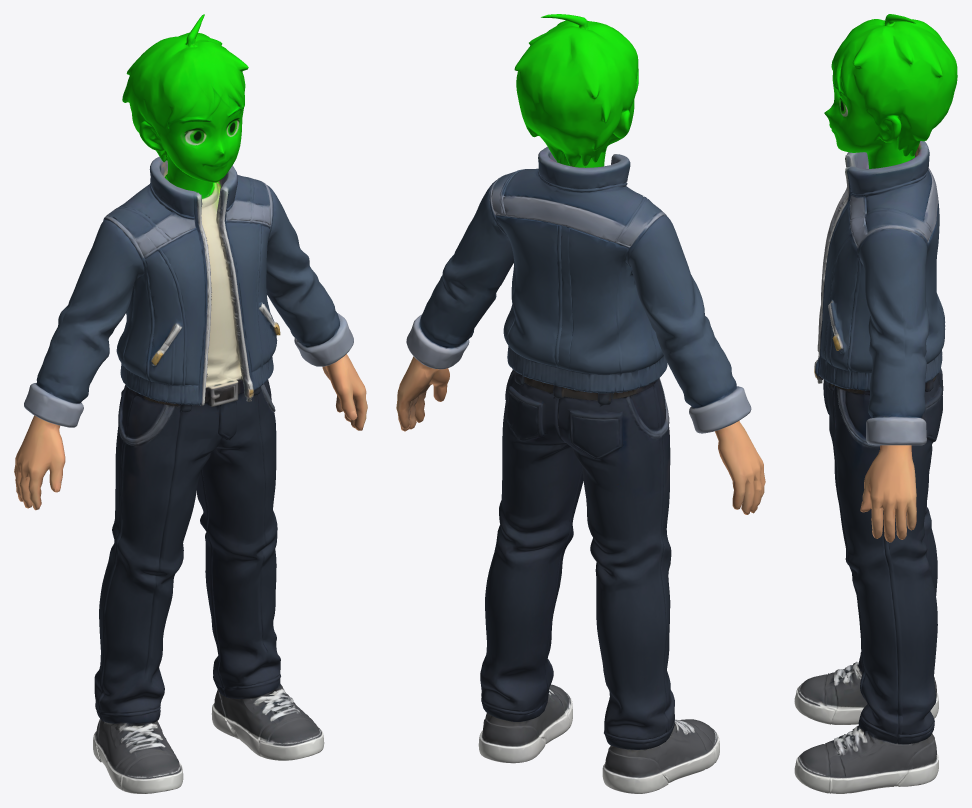
Rendered from body.glb.
3 views of the same model, side by side, from view 1: azimuth 30°, elevation 25°; view 2: azimuth 150°, elevation 25°; view 3: azimuth 270°, elevation 25° (orthographic). The views are drawn at different scales.
Visible parts, largest first — view 1: tripo_node_0ee16ef3-5d48-4c42-aa34-10bc71923ce1; view 2: tripo_node_0ee16ef3-5d48-4c42-aa34-10bc71923ce1; view 3: tripo_node_0ee16ef3-5d48-4c42-aa34-10bc71923ce1.
Part boxes in pixels (x1,y1,x2,y2): tripo_node_0ee16ef3-5d48-4c42-aa34-10bc71923ce1: (14,14,367,793); tripo_node_0ee16ef3-5d48-4c42-aa34-10bc71923ce1: (396,14,765,793); tripo_node_0ee16ef3-5d48-4c42-aa34-10bc71923ce1: (794,14,957,793).
Size of the model in its own units: 0.491 by 0.9807 by 0.1968.
1 material, 1 textured.
